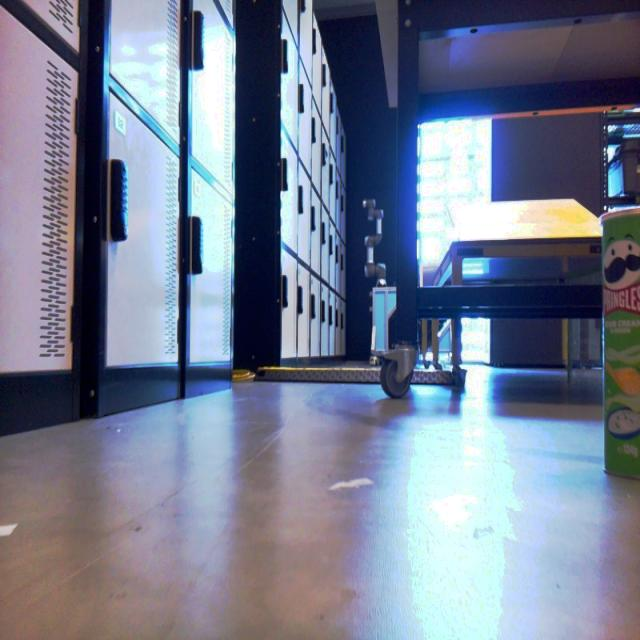greenpringles: (588, 185, 640, 520)
